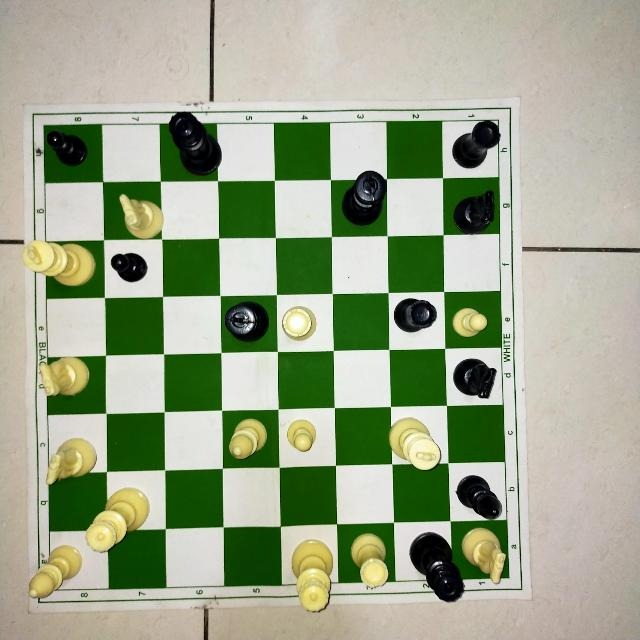black-bishop: (455, 473, 506, 521)
black-king: (219, 298, 274, 354), (342, 169, 386, 233)
black-knight: (446, 184, 499, 231), (449, 361, 501, 404)
black-pawn: (46, 126, 102, 182), (109, 247, 161, 295)
black-queen: (163, 111, 222, 175), (405, 529, 457, 580)
black-rook: (441, 125, 500, 177), (390, 296, 444, 344)
white-bishop: (48, 536, 104, 592), (223, 413, 277, 465)
white-king: (43, 242, 104, 296), (390, 408, 451, 461)
white-knight: (49, 416, 101, 477), (104, 185, 161, 237), (48, 361, 104, 413), (464, 532, 509, 579)
white-pawn: (448, 296, 504, 350), (284, 413, 332, 463)
white-queen: (111, 474, 166, 529), (279, 532, 335, 584)
white-rook: (344, 527, 394, 583), (279, 299, 331, 351)
